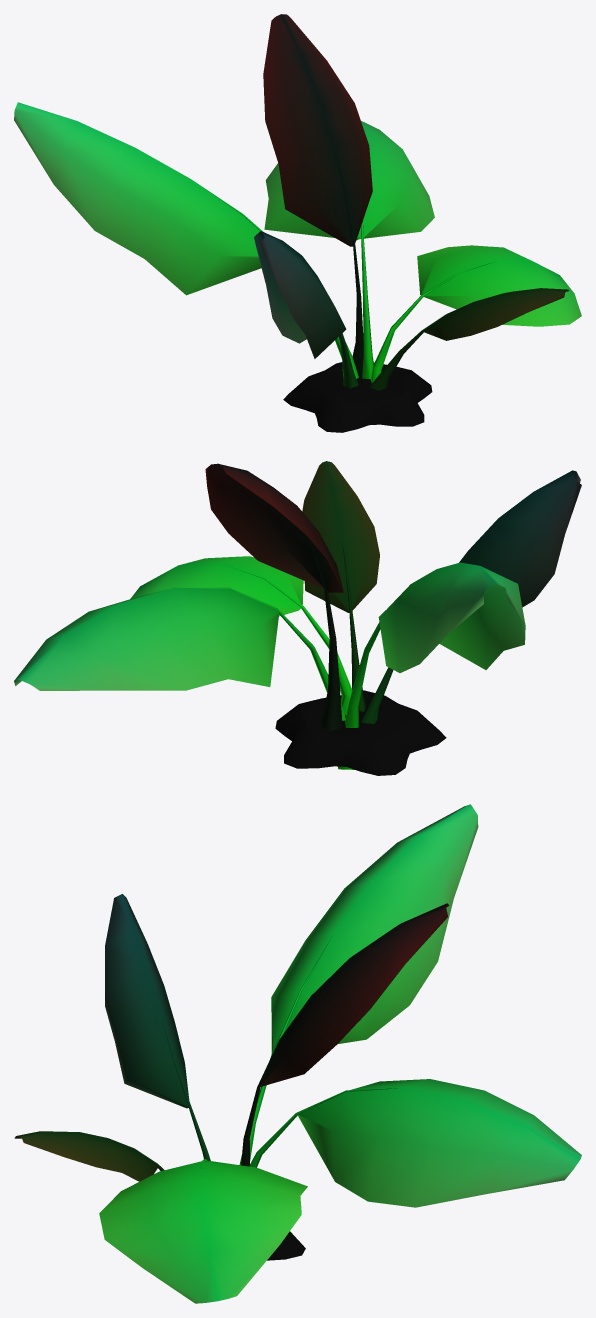
The model's file is Fern 4.fbx.
3 views of the same model, one above another, from view 1: azimuth 30°, elevation 25°; view 2: azimuth 150°, elevation 25°; view 3: azimuth 270°, elevation 25° (orthographic). The views are drawn at different scales.
Visible parts, largest first — view 1: _0.004; view 2: _0.004; view 3: _0.004.
Boxes of the visible parts, x1,y1,x2,y2 form: _0.004: [14, 14, 581, 432]; _0.004: [14, 461, 581, 775]; _0.004: [14, 804, 581, 1303].
Size of the model in its own units: 1.36 by 1.39 by 0.9697.
